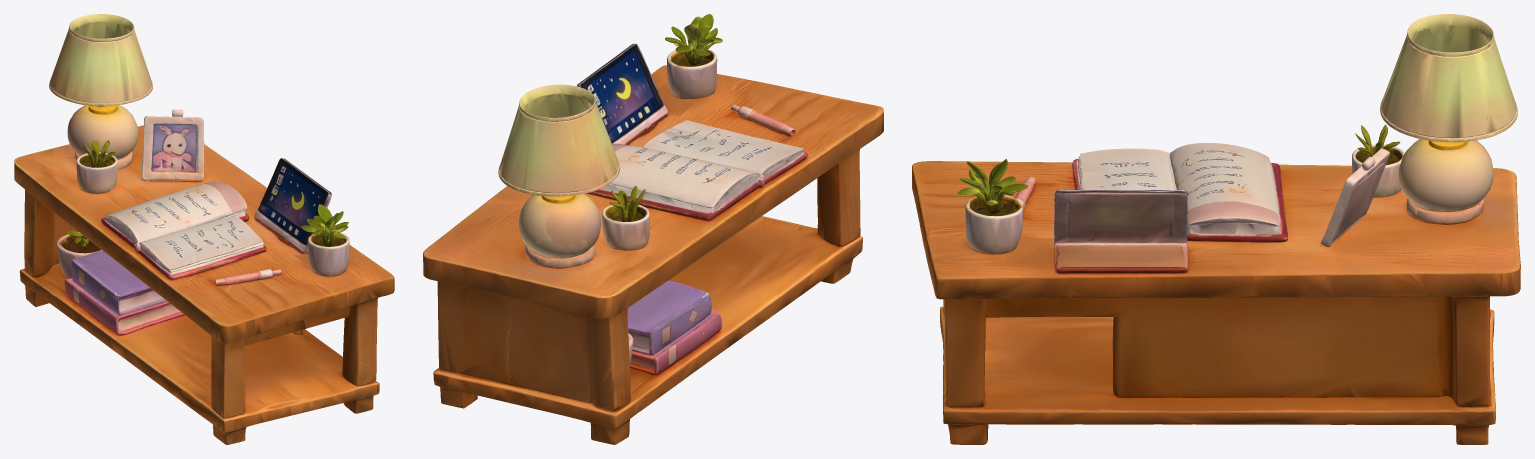
Rendered from rowtable.glb.
3 renders of one model, left to right at view 1: azimuth 30°, elevation 25°; view 2: azimuth 150°, elevation 25°; view 3: azimuth 270°, elevation 25°, orthographic. The views are drawn at different scales.
Visible parts, largest first — view 1: model; view 2: model; view 3: model.
Part boxes in pixels (x1,y1,x2,y2): model: (14, 14, 394, 444); model: (423, 14, 883, 444); model: (912, 14, 1520, 444).
Size of the model in its own units: 0.8724 by 1.23 by 1.9.
1 material, 1 textured.
